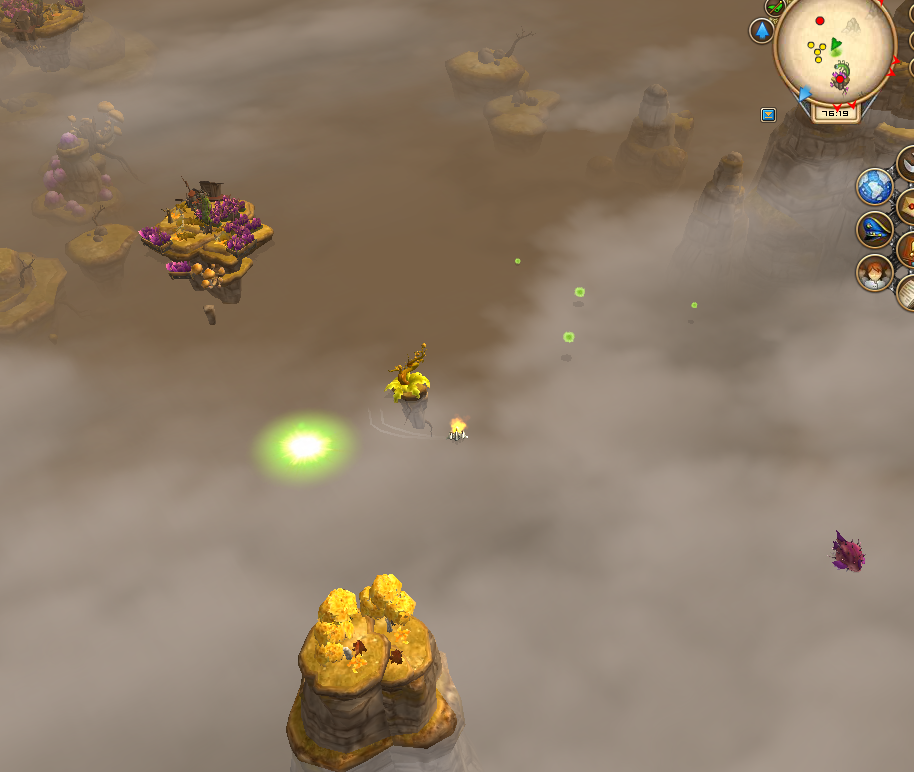dandelion-empty: (388, 343, 434, 431)
fluff: (573, 283, 588, 301), (561, 328, 576, 344), (512, 254, 524, 266), (688, 300, 699, 310)
